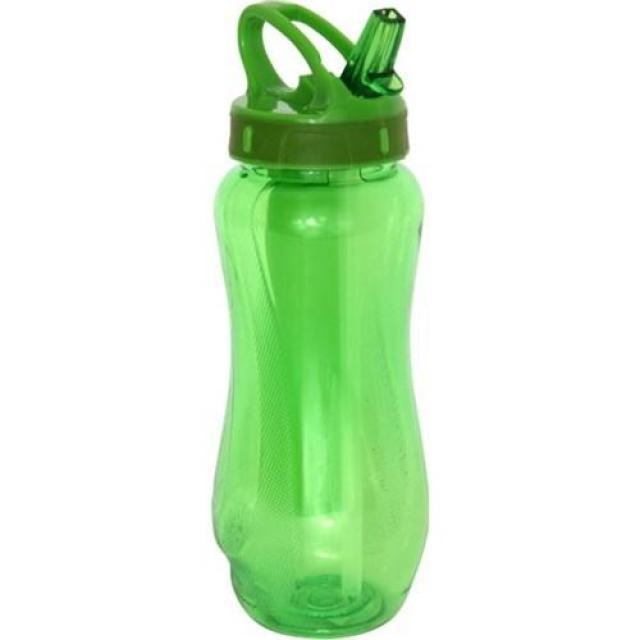plastic_bottle: (194, 1, 455, 640)
